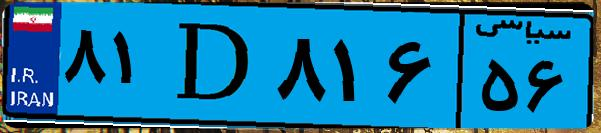1: (330, 28, 385, 110), (110, 28, 158, 98)
5: (475, 38, 525, 113)
6: (385, 28, 445, 110), (525, 38, 570, 115)
8: (270, 28, 330, 110), (57, 26, 110, 100)
D: (158, 12, 270, 120)
